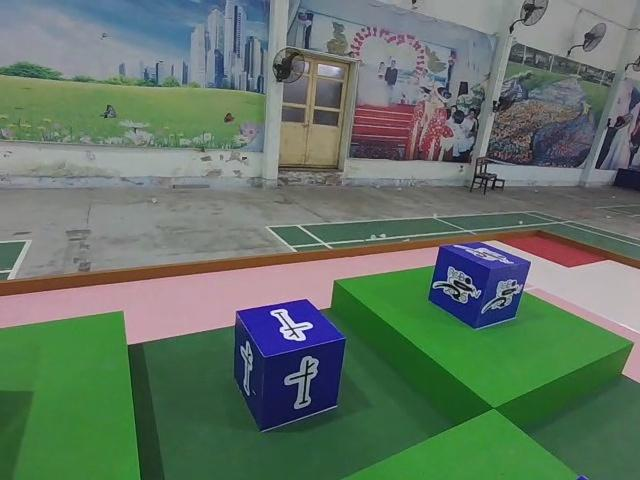R1 Blue: (429, 242, 531, 330)
R2 Real Blue: (233, 299, 346, 431)
